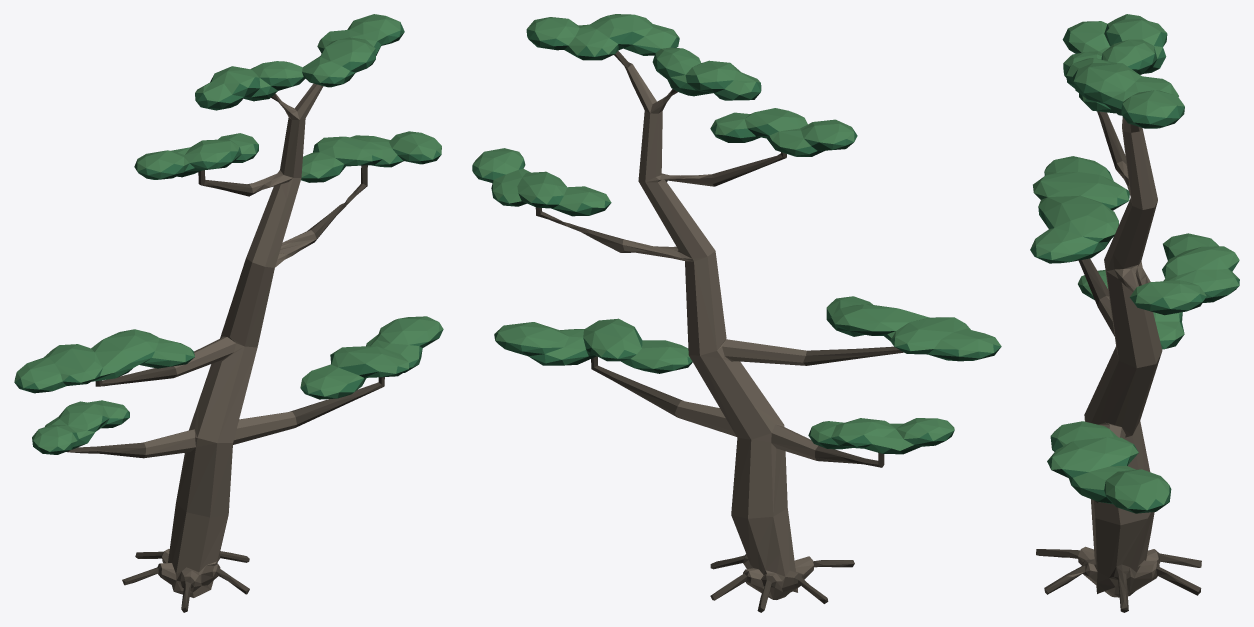
The model's file is ancient-pine-1419-lod1.glb.
3 renders of one model, left to right at view 1: azimuth 30°, elevation 25°; view 2: azimuth 150°, elevation 25°; view 3: azimuth 270°, elevation 25°, orthographic. The views are drawn at different scales.
Parts seen in each view (by area): view 1: n8.005, n12.005, n11.005, n9.005, n10.005; view 2: n12.005, n8.005, n11.005, n9.005, n10.005; view 3: n12.005, n8.005, n11.005, n9.005, n10.005.
Boxes of the visible parts, x1,y1,x2,y2 form: n8.005: (143,83,323,597); n12.005: (14,14,443,451); n11.005: (14,22,443,451); n9.005: (66,93,384,612); n10.005: (15,33,440,454); n12.005: (473,14,1001,450); n8.005: (602,64,818,599); n11.005: (472,29,1001,453); n9.005: (535,51,903,612); n10.005: (474,40,1000,454); n12.005: (1030,14,1239,509); n8.005: (1067,117,1162,597); n11.005: (1030,24,1239,510); n9.005: (1036,111,1201,612); n10.005: (1030,33,1238,513).
Bounding box in the file's own units: 5.07 × 5.42 × 1.67.
